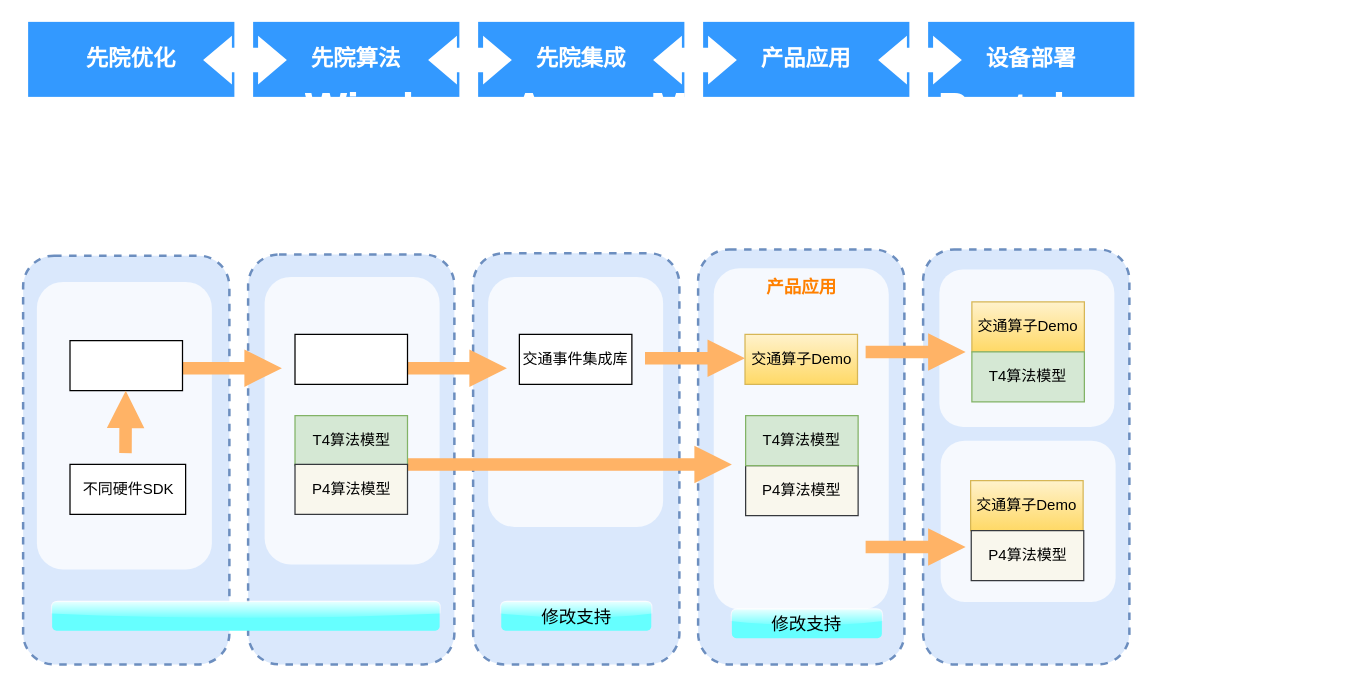
This 1369x686 diagram has some shape labels left out. Each missing label, with the box of its shape:
AI异构SDK库 (NNX): (69, 339, 182, 391)
P4设备: (940, 440, 1115, 601)
T4设备: (939, 269, 1114, 426)
交通事件算法库: (294, 333, 408, 384)
优化交付: (36, 281, 211, 569)
算法交付: (264, 276, 439, 564)
部分算法已支持或可以支持: (52, 601, 439, 630)
集成交付: (488, 276, 662, 526)
